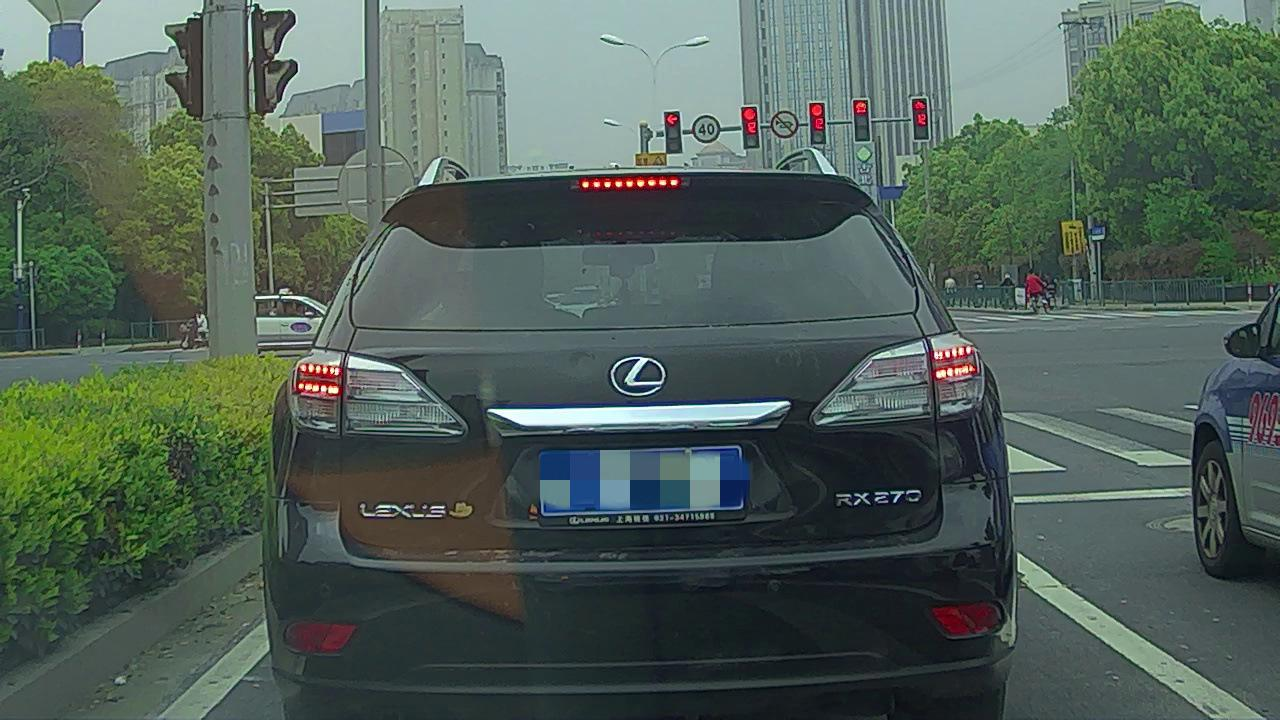traffic_light: (851, 100, 871, 142), (911, 97, 929, 141), (663, 112, 682, 153), (741, 108, 758, 148), (811, 102, 826, 144)
